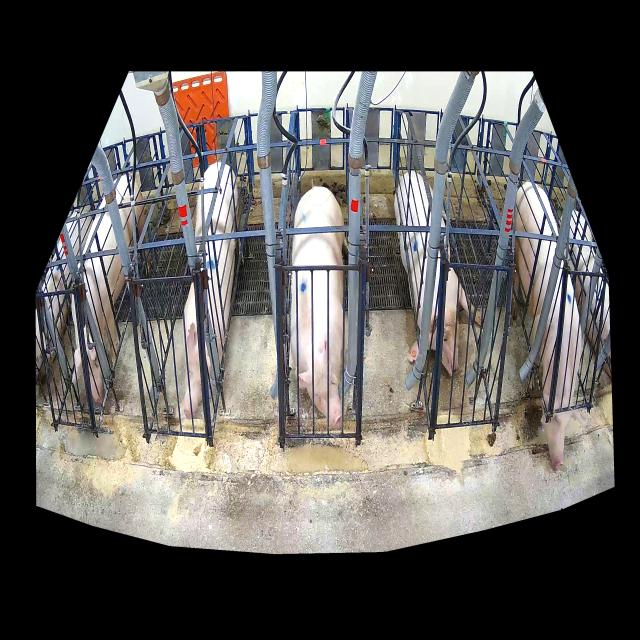pig: (511, 182, 587, 470), (72, 175, 150, 404), (395, 172, 481, 377), (181, 163, 241, 420), (290, 187, 344, 430)
